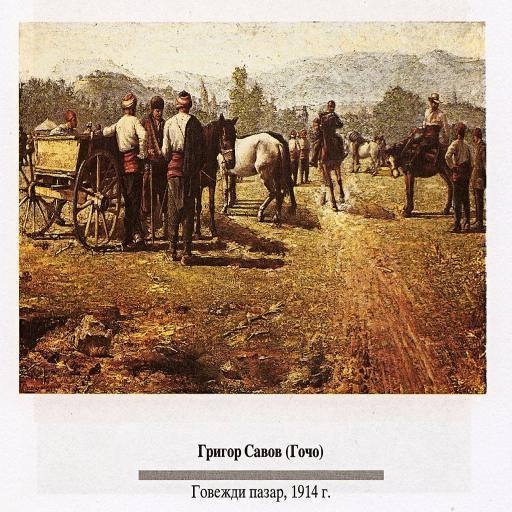horse: (216, 129, 286, 223), (193, 112, 241, 240), (382, 143, 452, 217), (236, 134, 296, 214), (343, 140, 383, 176)
